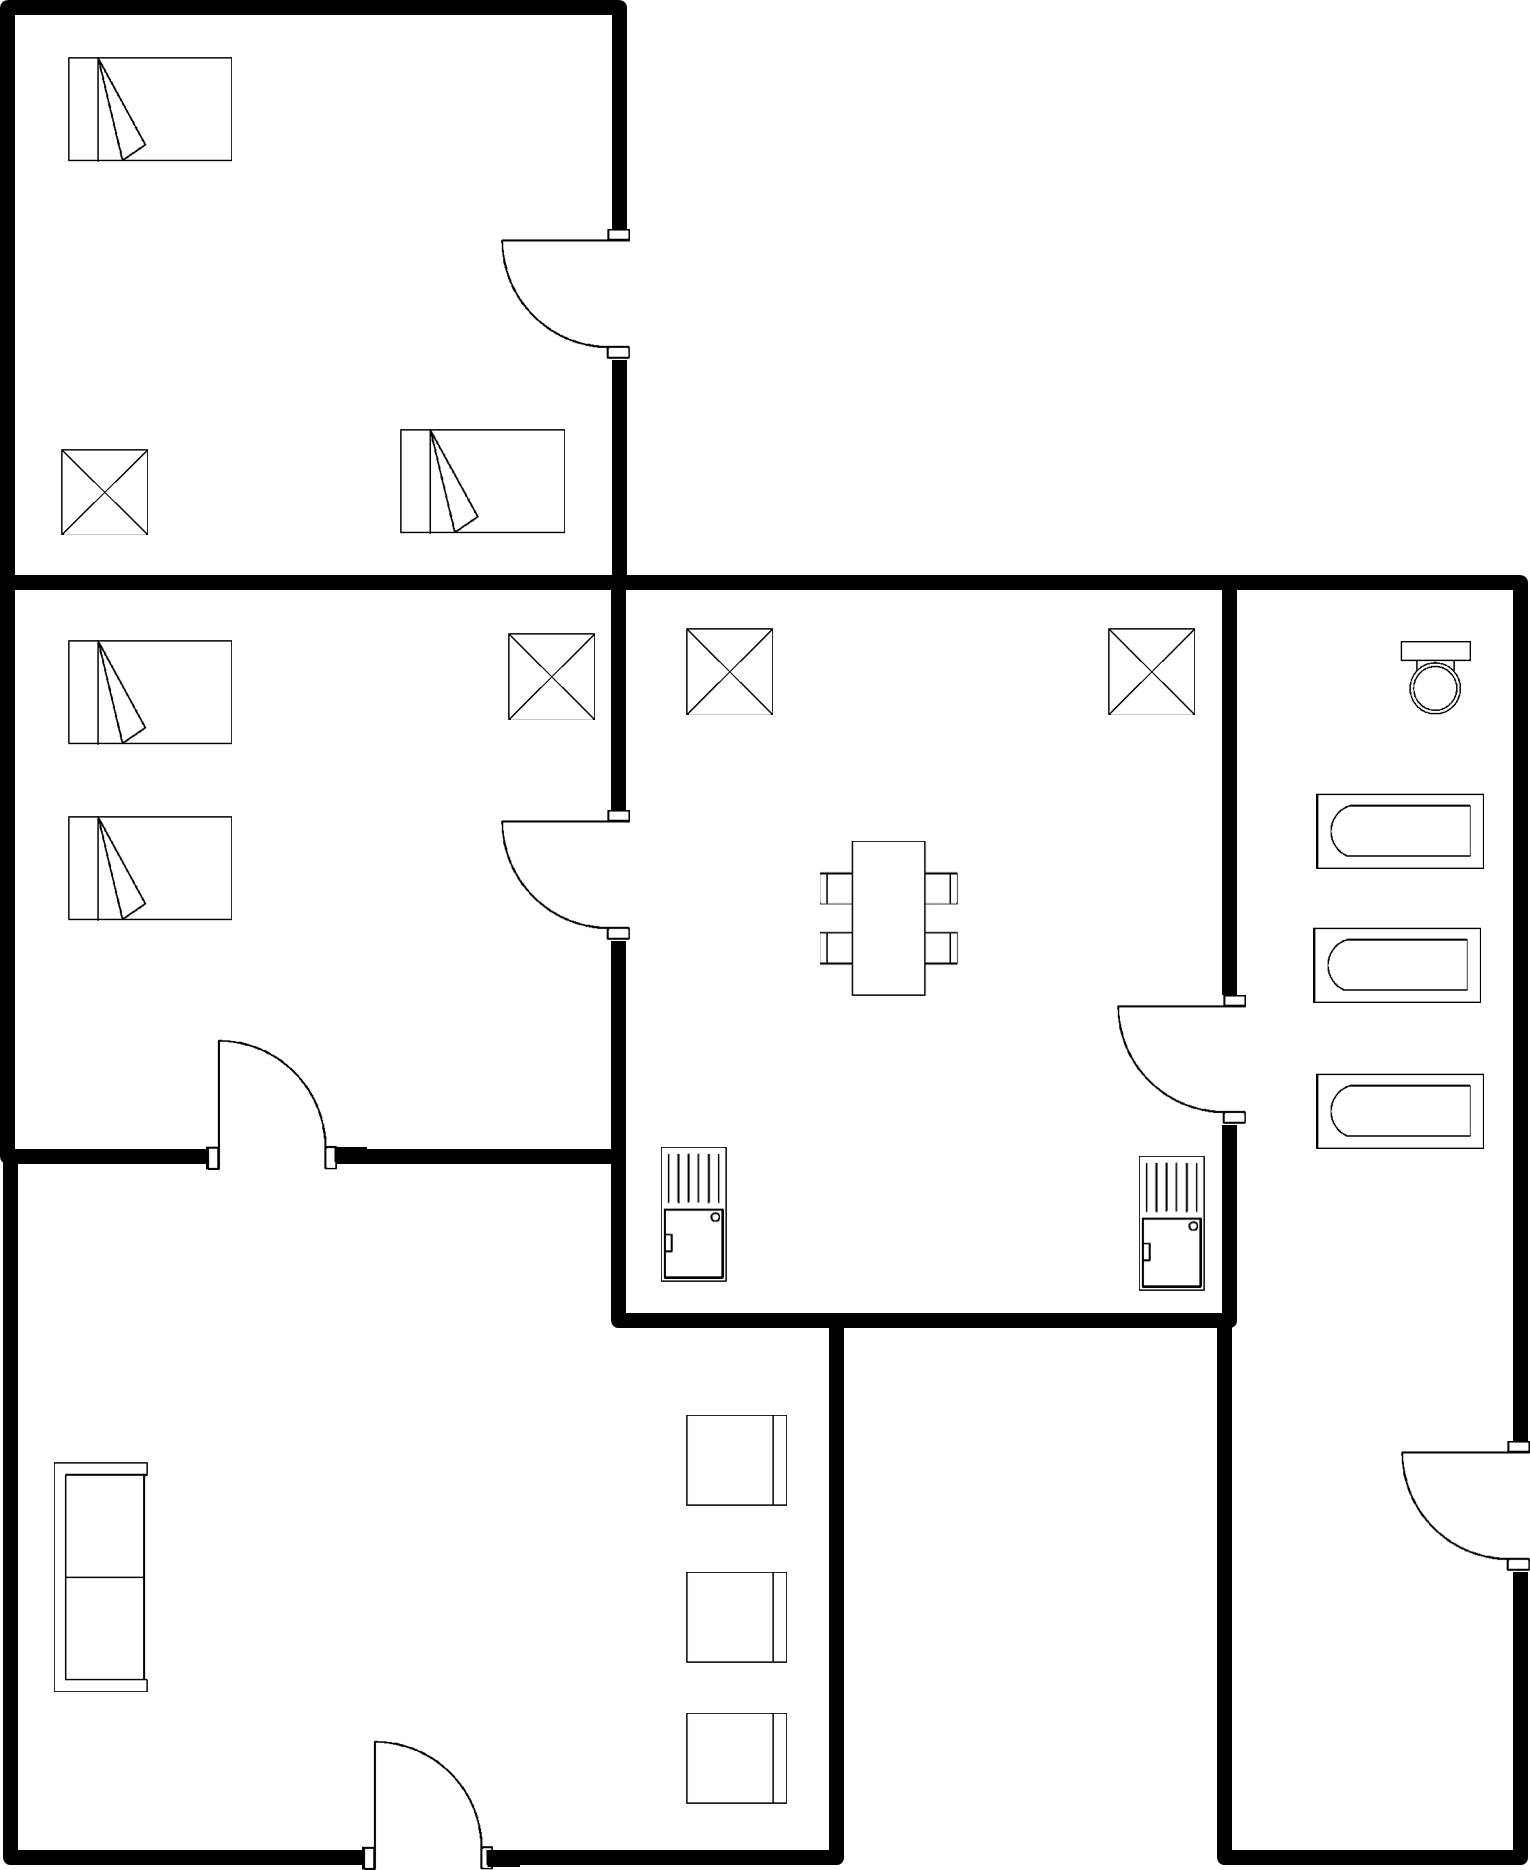bed: (53, 38, 249, 180), (53, 801, 249, 938), (387, 418, 584, 541), (56, 634, 251, 752)
coffee_table: (487, 616, 609, 732), (49, 434, 165, 549), (1095, 618, 1209, 732), (676, 620, 785, 725)
dining_table: (804, 821, 973, 1014)
large_sink: (1382, 623, 1482, 720)
large_sofa: (40, 1452, 162, 1707)
sink: (645, 1132, 747, 1296), (1122, 1147, 1220, 1303)
small_sofa: (675, 1401, 802, 1523), (675, 1698, 798, 1821), (671, 1563, 795, 1676)
tub: (1298, 912, 1498, 1016), (1302, 780, 1496, 881), (1304, 1061, 1495, 1161)
